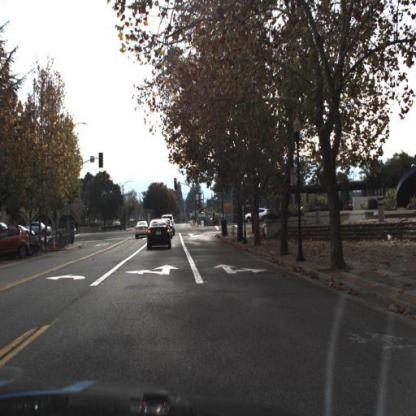car: (1, 223, 33, 259), (146, 217, 174, 253), (2, 231, 33, 258), (243, 206, 273, 228), (28, 220, 54, 238), (243, 207, 270, 223), (27, 220, 50, 238), (135, 220, 152, 241)
trafficLight-Red: (172, 178, 179, 193), (174, 178, 178, 191)
